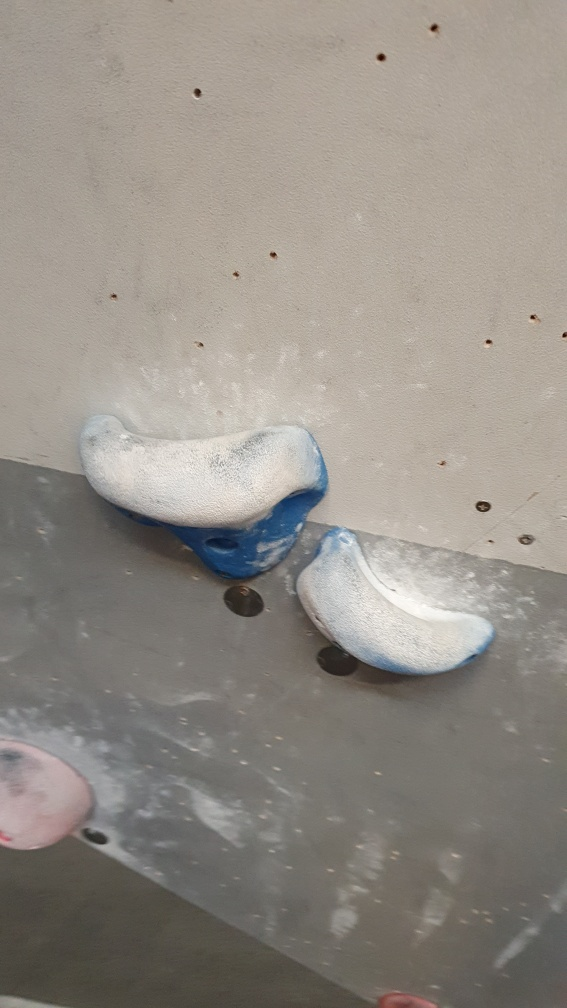Hand Start: (306, 642, 362, 688), (220, 585, 270, 624), (78, 826, 109, 851)
Jug: (74, 412, 328, 586), (296, 530, 498, 678)
Sloper: (1, 734, 111, 857)
